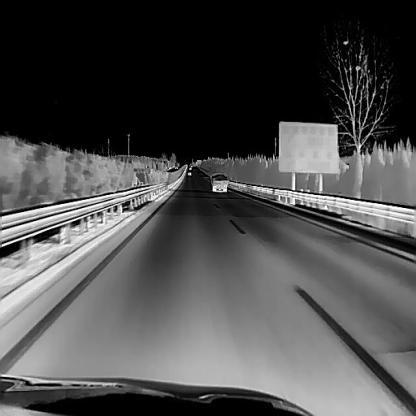car: (209, 172, 228, 190), (187, 168, 191, 175)
